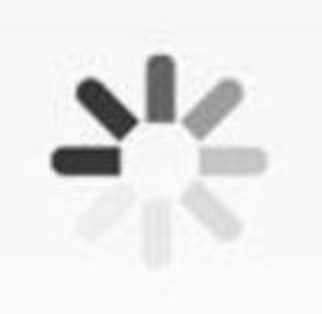ProgressBar: (1, 1, 321, 313)
